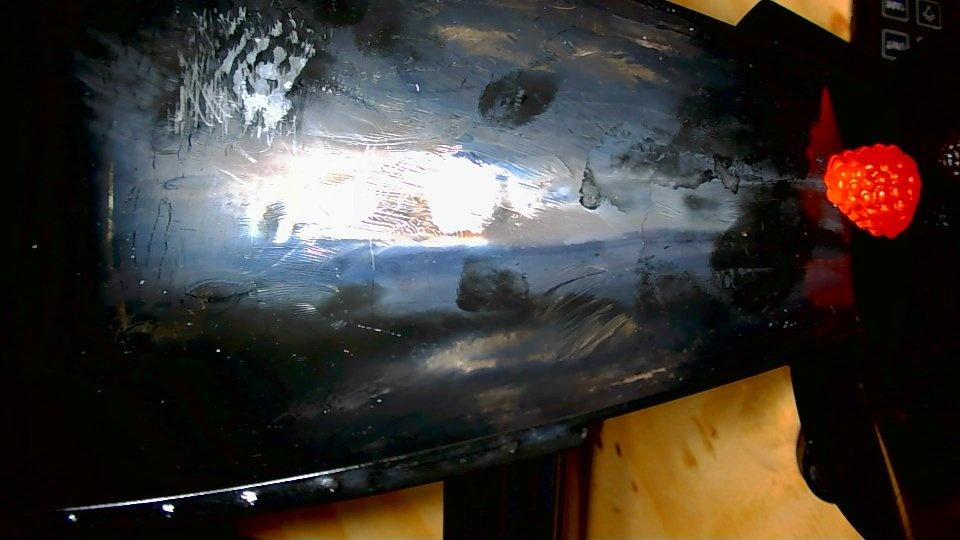berry: (824, 144, 921, 238), (937, 134, 959, 181)
